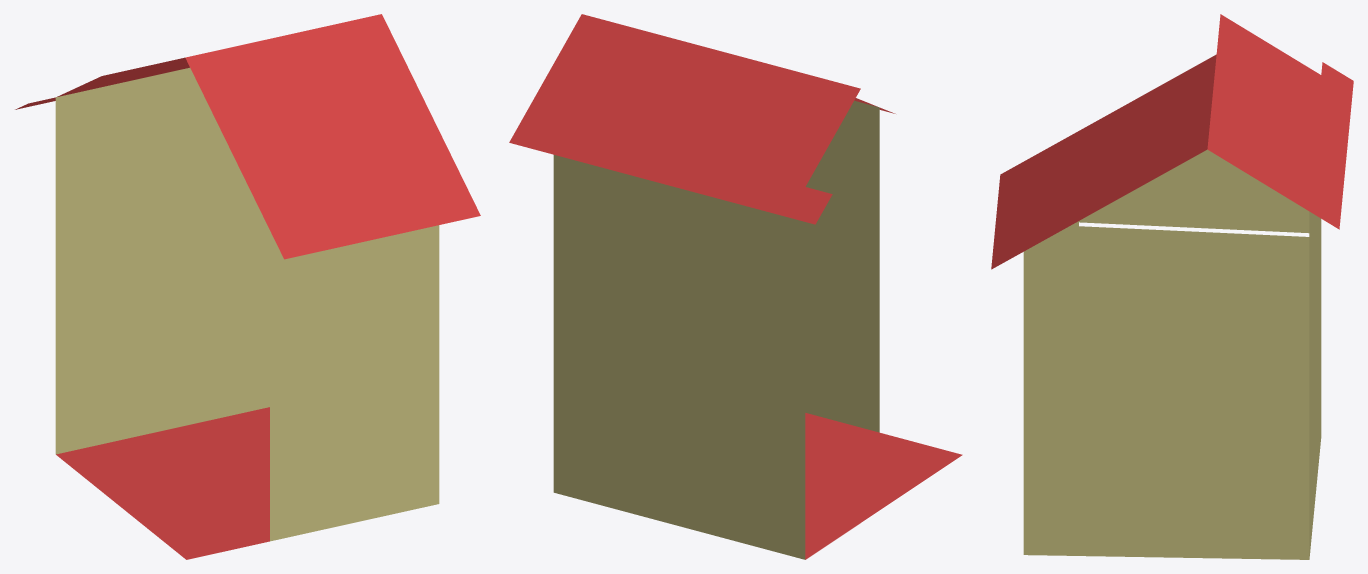
3 renders of one model, left to right at view 1: azimuth 30°, elevation 25°; view 2: azimuth 150°, elevation 25°; view 3: azimuth 270°, elevation 25°, orthographic. The views are drawn at different scales.
Bounding box in the file's own units: 8.47 × 8.69 × 11.16.
